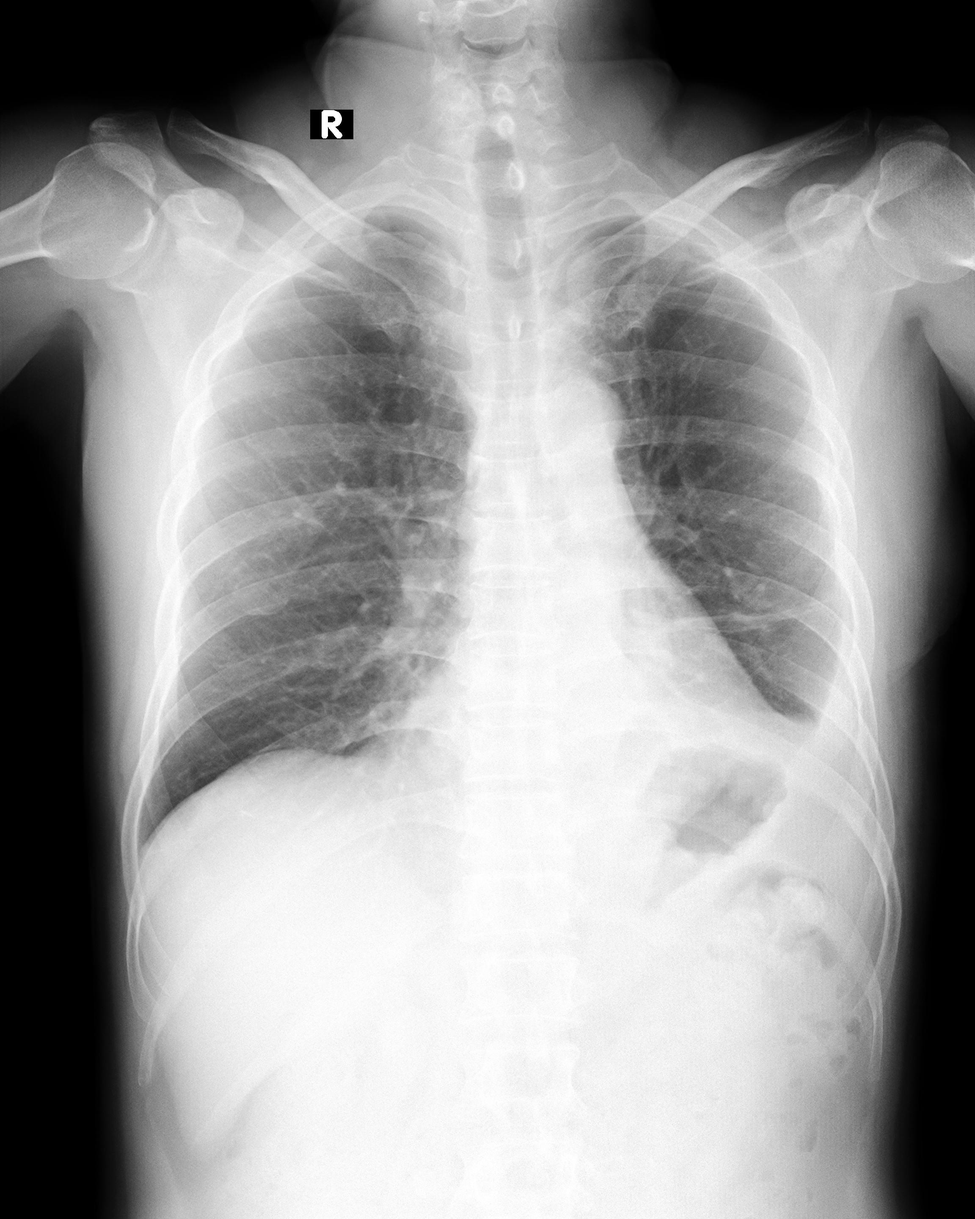Aortic enlargement: (545, 380, 643, 485)
Pulmonary fibrosis: (677, 592, 845, 638)
